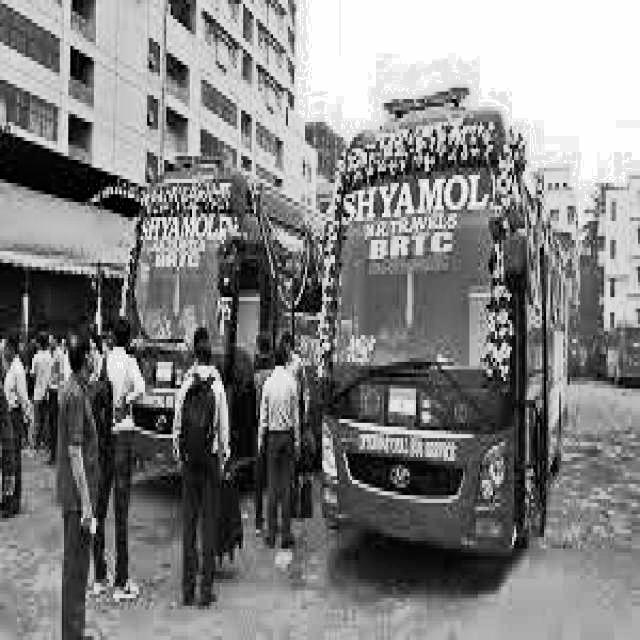Bus: (303, 109, 573, 565), (124, 168, 337, 476)
